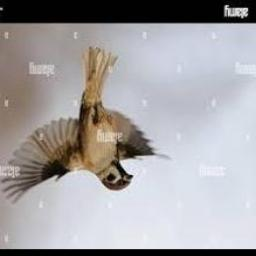Sparrow: (2, 47, 171, 204)
